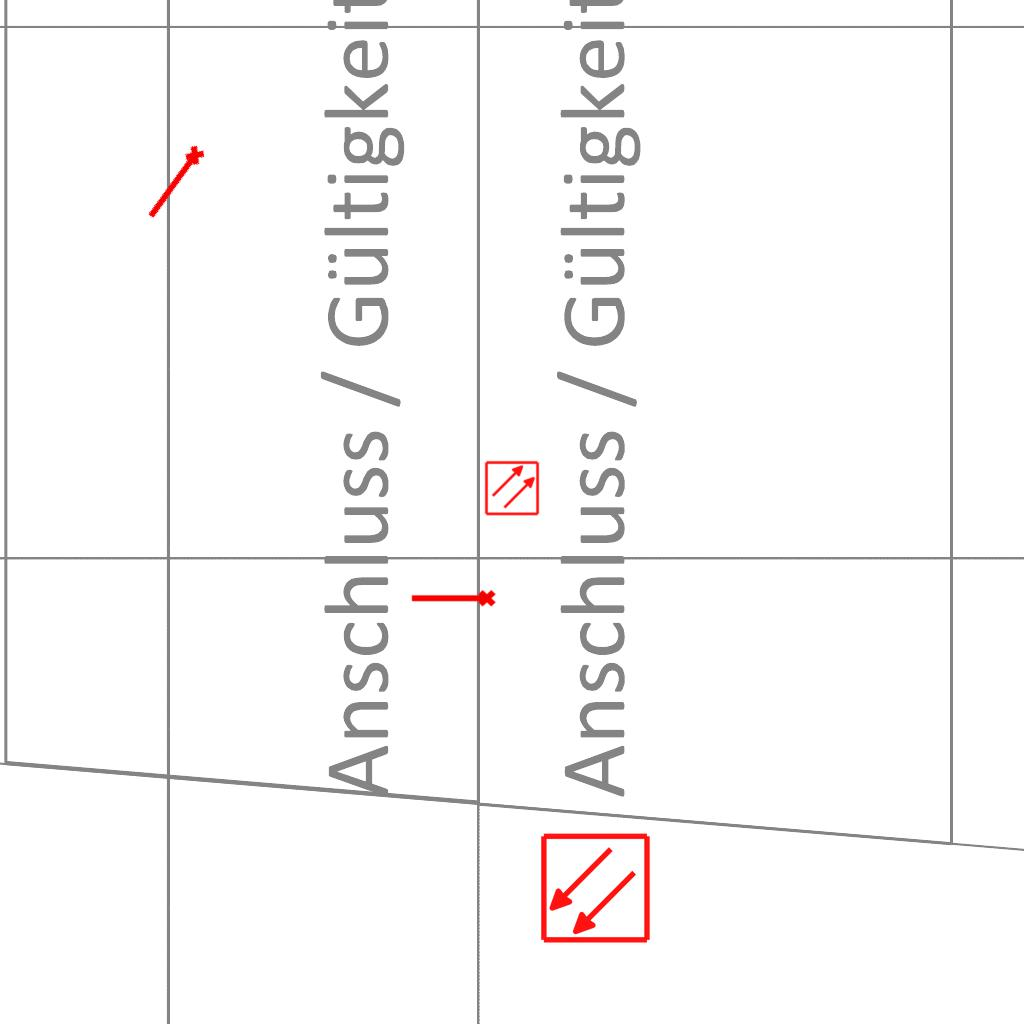ASR_Ansaugoeffnung: (140, 141, 212, 226), (409, 588, 497, 611)
RMO_Rauchmelder_optischer: (539, 832, 652, 945), (484, 460, 540, 516)
